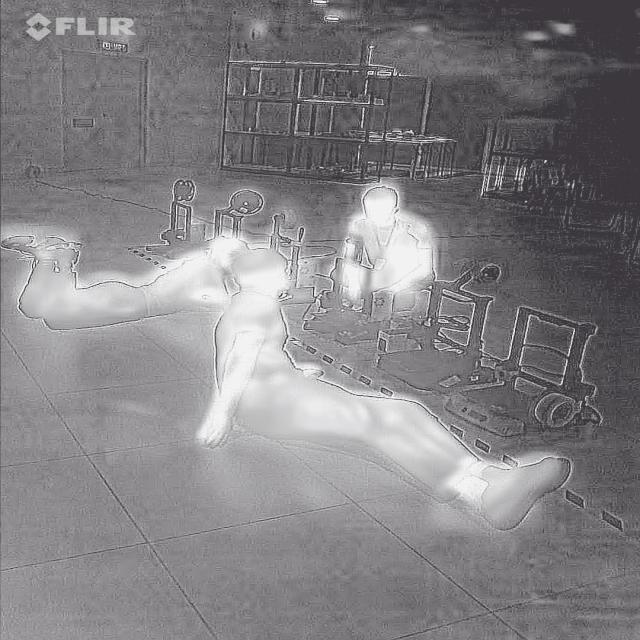Victim: (180, 243, 580, 539), (0, 230, 257, 331), (323, 178, 445, 314)
